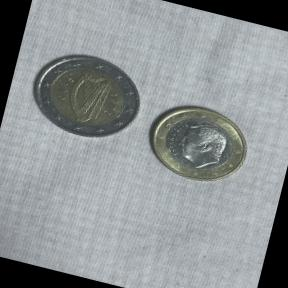1 Euro-B: (134, 92, 258, 194)
2 Euro-B: (18, 37, 152, 152)
